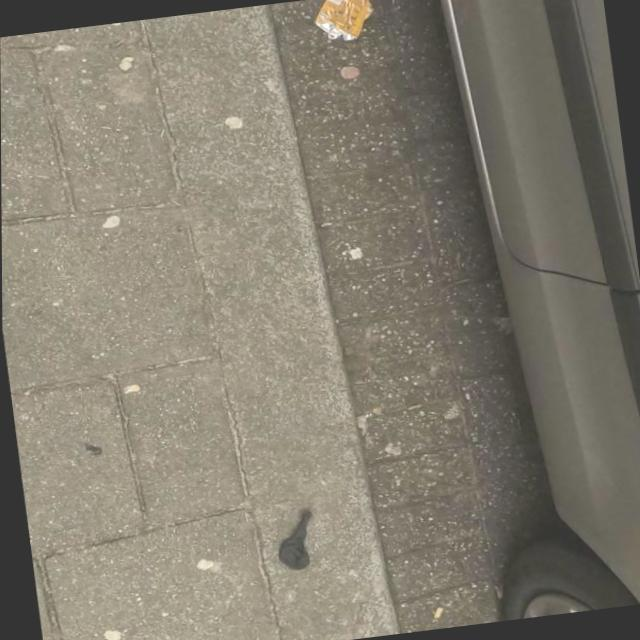Can-Metal: (309, 0, 376, 47)
